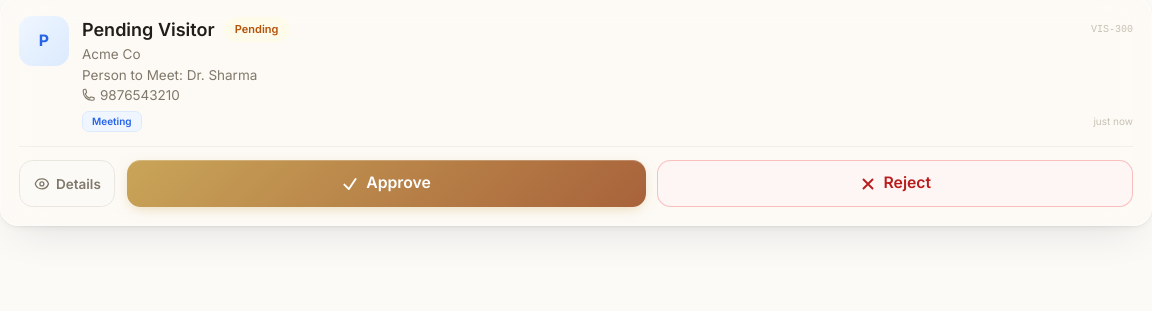
Scenario: ApprovalsPendingList › does not show the rejection reason input until Reject is clicked
Click the button "Reject" at (895, 184), box top-left (657, 160), bottom-right (1133, 207)
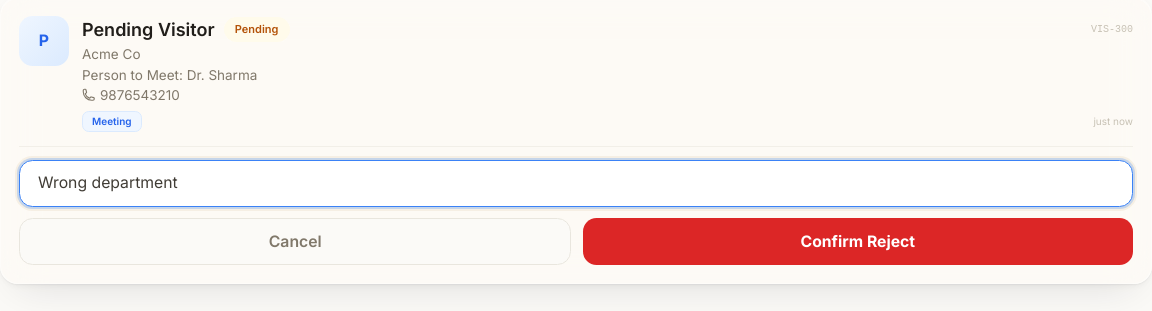
Check: the field with placeholder "Rejection reason (required to reject)" holds "Wrong department", box top-left (19, 160), bottom-right (1133, 207)
